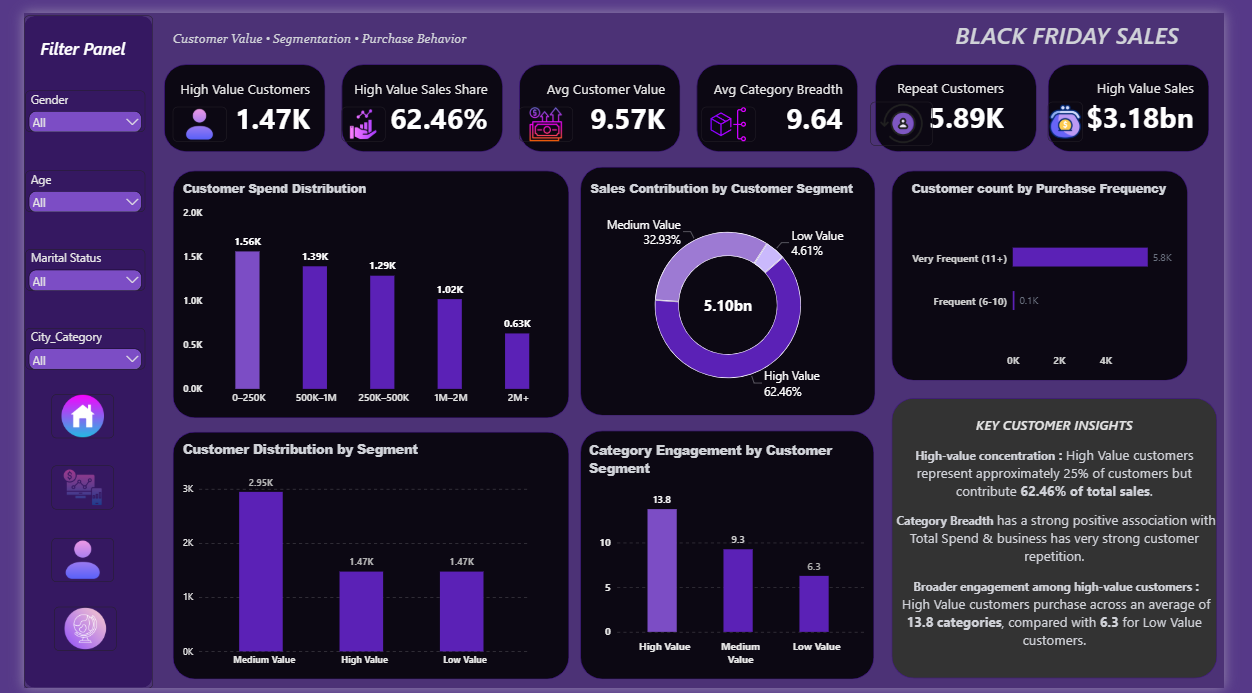

The dashboard page shown, as its layout file describes it:
{"tool":"powerbi","page":{"name":"Customer & Marketing Analysis","canvas":[1920,1080],"ordinal":2},"visuals":[{"type":"shape","box":[224,82,258,140],"z":0},{"type":"shape","box":[508,82,258,140],"z":1000},{"type":"shape","box":[792,82,258,140],"z":2000},{"type":"shape","box":[1076,82,258,140],"z":3000},{"type":"shape","box":[1362,82,258,140],"z":4000},{"type":"shape","box":[1638,82,258,140],"z":5000},{"type":"shape","box":[238,252,634,396],"z":6000},{"type":"shape","box":[238,670,634,396],"z":7000},{"type":"shape","box":[890,246,472,398],"z":8000},{"type":"shape","box":[890,668,470,398],"z":9000},{"type":"shape","box":[1388,251.5,508.5,336.6],"z":10000},{"type":"shape","box":[1388,615.3,521.2,448.8],"z":11000},{"type":"shape","box":[0,3.6,206.3,1076.7],"z":12000},{"type":"cardVisual","fields":{"Data":["_Measures.High Value Customers"]},"box":[224.4,81.3,250,140],"z":13000},{"type":"cardVisual","fields":{"Data":["_Measures.Average Category Breadth"]},"box":[1076.7,81.4,250,140],"z":14000},{"type":"cardVisual","fields":{"Data":["_Measures.Average CLV"]},"box":[792.6,81.4,250,140],"z":15000},{"type":"cardVisual","fields":{"Data":["_Measures.High Value Sales Share"]},"box":[508.5,81.4,250,140],"z":16000},{"type":"cardVisual","fields":{"Data":["Measures(Geo).Very Frequent Customers"]},"box":[1351.8,79.6,269.6,141.2],"z":17000},{"type":"clusteredColumnChart","title":"Customer Distribution by Segment","fields":{"Category":["Customer_Summary.Customer_Segment"],"Y":["CountNonNull(Customer_Summary.User_ID)"]},"box":[238,668,588,398],"z":18000},{"type":"donutChart","title":"Sales Contribution by Customer Segment","fields":{"Category":["Customer_Summary.Customer_Segment"],"Y":["Sum(Customer_Summary.Total_Spend)"]},"box":[890.4,251.5,472.3,392.7],"z":19000},{"type":"clusteredColumnChart","title":"Category Engagement by Customer Segment","fields":{"Y":["_Measures.Average Category Breadth"],"Category":["Customer_Summary.Customer_Segment"]},"box":[888,670,472,394],"z":20000},{"type":"clusteredColumnChart","title":"Customer Spend Distribution","fields":{"Category":["Customer_Summary.Spend_Band"],"Y":["_Measures.Customer_Count"]},"box":[238,252,634,396],"z":21000},{"type":"barChart","title":"Customer count by Purchase Frequency","fields":{"Category":["Customer_Summary.Purchase_Frequency"],"Y":["_Measures.Customer_Count"]},"box":[1404.3,251.5,483.2,336.6],"z":22000},{"type":"textbox","box":[25.3,38,181,44],"z":23000},{"type":"slicer","fields":{"Values":["Customer_Summary.Gender"]},"box":[2.3,124.9,192,66],"z":24000},{"type":"slicer","fields":{"Values":["Customer_Summary.Age"]},"box":[2.3,251.5,192,66],"z":25000},{"type":"slicer","fields":{"Values":["Customer_Summary.Marital Status"]},"box":[2.3,378.1,192,66],"z":26000},{"type":"slicer","fields":{"Values":["Customer_Summary.City_Category"]},"box":[2.3,504.8,192,66],"z":27000},{"type":"textbox","box":[1489.4,9,430.7,57.9],"z":28000},{"type":"textbox","box":[1388,644.2,521.2,436.1],"z":29000},{"type":"cardVisual","fields":{"Data":["_Measures.High Value Sales"]},"box":[1638,80,250,140],"z":30000},{"type":"textbox","box":[238.9,29,486.8,52.5],"z":31000},{"type":"image","box":[44,840,100,70],"z":32000},{"type":"image","box":[48,950,100,70],"z":33000},{"type":"image","box":[44,724,100,70],"z":34000},{"type":"actionButton","box":[21.7,599,121.2,67],"z":35000},{"type":"image","box":[44,610,100,70],"z":36000},{"type":"image","box":[238,150,86,56],"z":37000},{"type":"image","box":[508,150,70,56],"z":38000},{"type":"image","box":[792,150,86,56],"z":39000},{"type":"image","box":[1084,150,86,56],"z":40000},{"type":"image","box":[1354,142,100,70],"z":41000},{"type":"image","box":[1637.7,141.2,52.5,65.1],"z":42000}]}

Visuals, with their boxes in screenshot pixels (x1, y1, x2, y2), scaled from the page's 1920x1080 canvas onto the 1252x693 screenshot:
shape: left=146, top=53, right=314, bottom=142
shape: left=331, top=53, right=499, bottom=142
shape: left=516, top=53, right=685, bottom=142
shape: left=702, top=53, right=870, bottom=142
shape: left=888, top=53, right=1056, bottom=142
shape: left=1068, top=53, right=1236, bottom=142
shape: left=155, top=162, right=569, bottom=416
shape: left=155, top=430, right=569, bottom=684
shape: left=580, top=158, right=888, bottom=413
shape: left=580, top=429, right=887, bottom=684
shape: left=905, top=161, right=1237, bottom=377
shape: left=905, top=395, right=1245, bottom=683
shape: left=0, top=2, right=135, bottom=692
cardVisual - _Measures.High Value Customers: left=146, top=52, right=309, bottom=142
cardVisual - _Measures.Average Category Breadth: left=702, top=52, right=865, bottom=142
cardVisual - _Measures.Average CLV: left=517, top=52, right=680, bottom=142
cardVisual - _Measures.High Value Sales Share: left=332, top=52, right=495, bottom=142
cardVisual - Measures(Geo).Very Frequent Customers: left=881, top=51, right=1057, bottom=142
"Customer Distribution by Segment" clusteredColumnChart: left=155, top=429, right=539, bottom=684
"Sales Contribution by Customer Segment" donutChart: left=581, top=161, right=889, bottom=413
"Category Engagement by Customer Segment" clusteredColumnChart: left=579, top=430, right=887, bottom=683
"Customer Spend Distribution" clusteredColumnChart: left=155, top=162, right=569, bottom=416
"Customer count by Purchase Frequency" barChart: left=916, top=161, right=1231, bottom=377
textbox: left=16, top=24, right=135, bottom=53
slicer - Customer_Summary.Gender: left=1, top=80, right=127, bottom=122
slicer - Customer_Summary.Age: left=1, top=161, right=127, bottom=204
slicer - Customer_Summary.Marital Status: left=1, top=243, right=127, bottom=285
slicer - Customer_Summary.City_Category: left=1, top=324, right=127, bottom=366
textbox: left=971, top=6, right=1251, bottom=43
textbox: left=905, top=413, right=1245, bottom=692
cardVisual - _Measures.High Value Sales: left=1068, top=51, right=1231, bottom=141
textbox: left=156, top=19, right=473, bottom=52
image: left=29, top=539, right=94, bottom=584
image: left=31, top=610, right=97, bottom=654
image: left=29, top=465, right=94, bottom=509
actionButton: left=14, top=384, right=93, bottom=427
image: left=29, top=391, right=94, bottom=436
image: left=155, top=96, right=211, bottom=132
image: left=331, top=96, right=377, bottom=132
image: left=516, top=96, right=573, bottom=132
image: left=707, top=96, right=763, bottom=132
image: left=883, top=91, right=948, bottom=136
image: left=1068, top=91, right=1102, bottom=132
